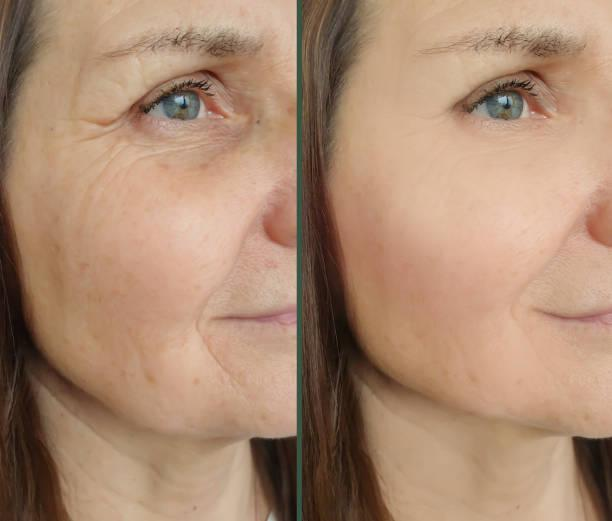Dry-Skin: (23, 125, 184, 370)
